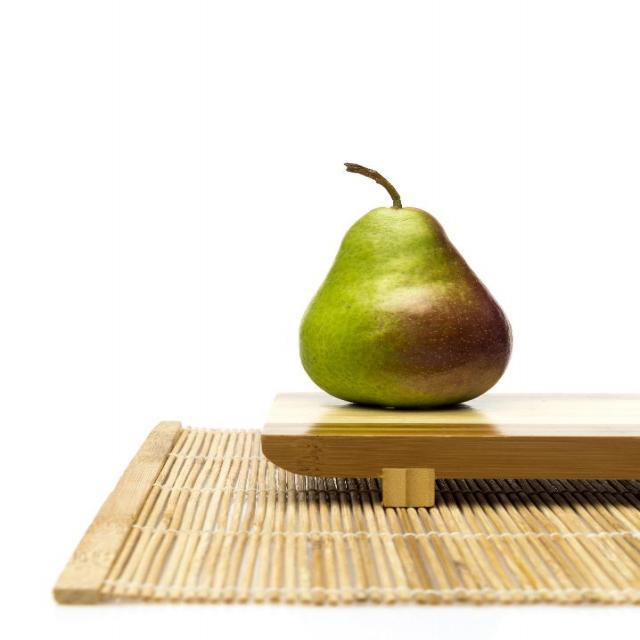Pear: (298, 162, 516, 413)
